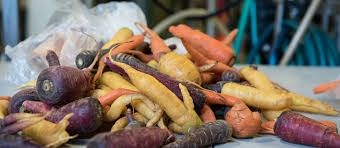kitchen_waste: (107, 51, 210, 133), (235, 61, 339, 116), (164, 20, 248, 68), (28, 58, 124, 99), (32, 96, 106, 137), (154, 110, 232, 148), (6, 109, 81, 148), (268, 109, 340, 148), (219, 80, 297, 109), (222, 95, 266, 145)
